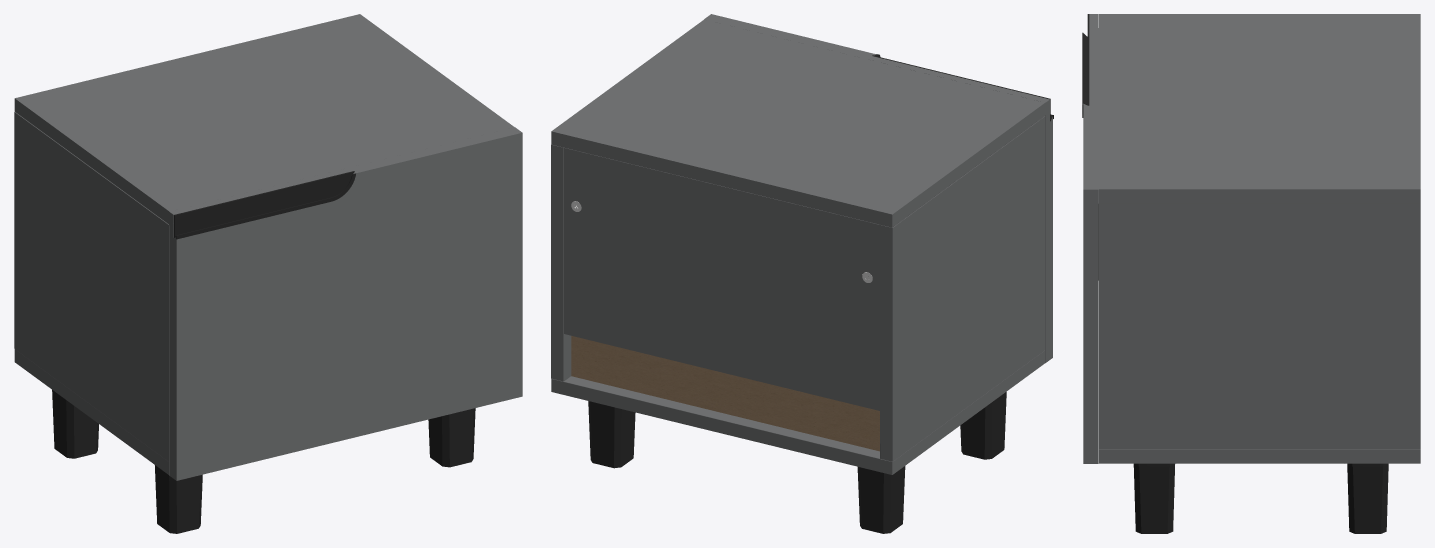
The picture shows the model from 3 angles, left to right: view 1: azimuth 30°, elevation 25°; view 2: azimuth 150°, elevation 25°; view 3: azimuth 270°, elevation 25°; orthographic projection. The views are drawn at different scales.
Visible parts, largest first — view 1: group_0.094, group_0.015, group_0.088, group_0.143; view 2: group_0.094, group_0.030, group_0.088, group_0.015; view 3: group_0.094, group_0.015, group_0.088, group_0.143.
Boxes of the visible parts, box(x1,y1,x2,y2) form: group_0.094: box(14, 14, 514, 475); group_0.015: box(169, 127, 522, 480); group_0.088: box(52, 390, 475, 533); group_0.143: box(174, 171, 355, 239); group_0.094: box(551, 19, 1045, 474); group_0.030: box(571, 336, 879, 451); group_0.088: box(588, 392, 1006, 533); group_0.015: box(704, 14, 1052, 362); group_0.094: box(1098, 14, 1420, 463); group_0.015: box(1083, 14, 1098, 463); group_0.088: box(1133, 463, 1388, 533); group_0.143: box(1082, 14, 1089, 117).
Bounding box in the file's own units: 0.4809 × 0.453 × 0.391.
4 materials, 1 textured.
